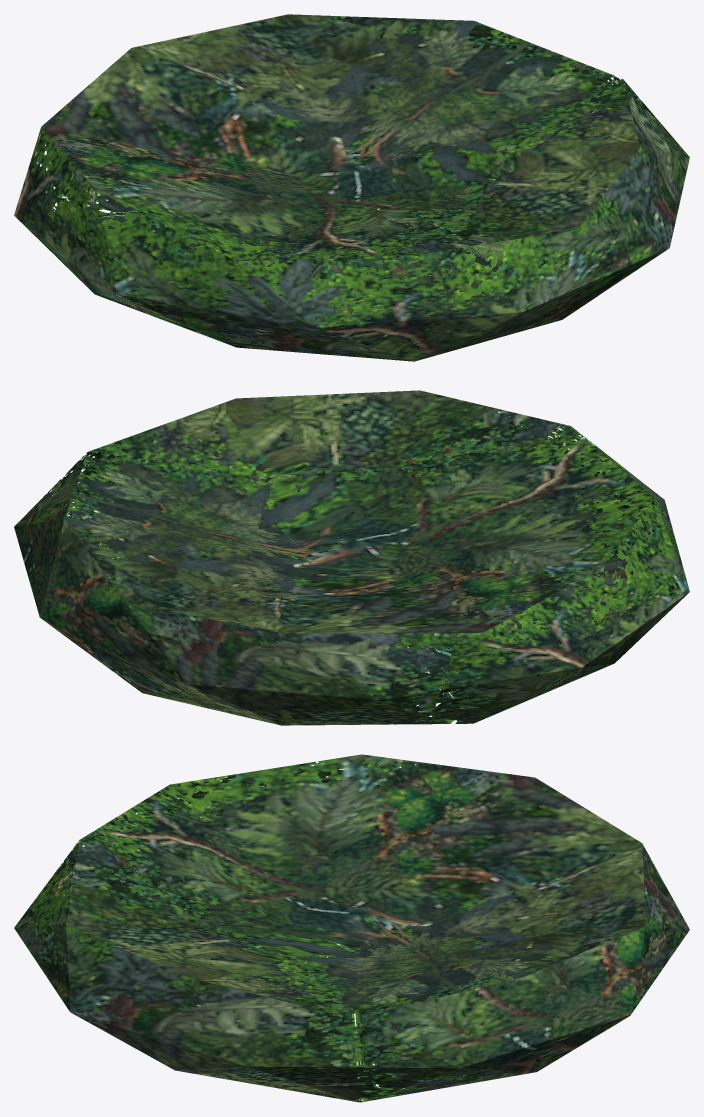
File: MTree_7_Bch_2.gltf
3 views of the same model, one above another, from view 1: azimuth 30°, elevation 25°; view 2: azimuth 150°, elevation 25°; view 3: azimuth 270°, elevation 25° (orthographic).
Parts seen in each view (by area): view 1: MTree_7_Bch_2; view 2: MTree_7_Bch_2; view 3: MTree_7_Bch_2.
Boxes of the visible parts, x1,y1,x2,y2 form: MTree_7_Bch_2: [14, 14, 689, 361]; MTree_7_Bch_2: [14, 390, 689, 725]; MTree_7_Bch_2: [14, 754, 689, 1102].
Bounding box in the file's own units: 14.6 × 2.54 × 14.98.
Materials: 1 (1 with a texture image).
